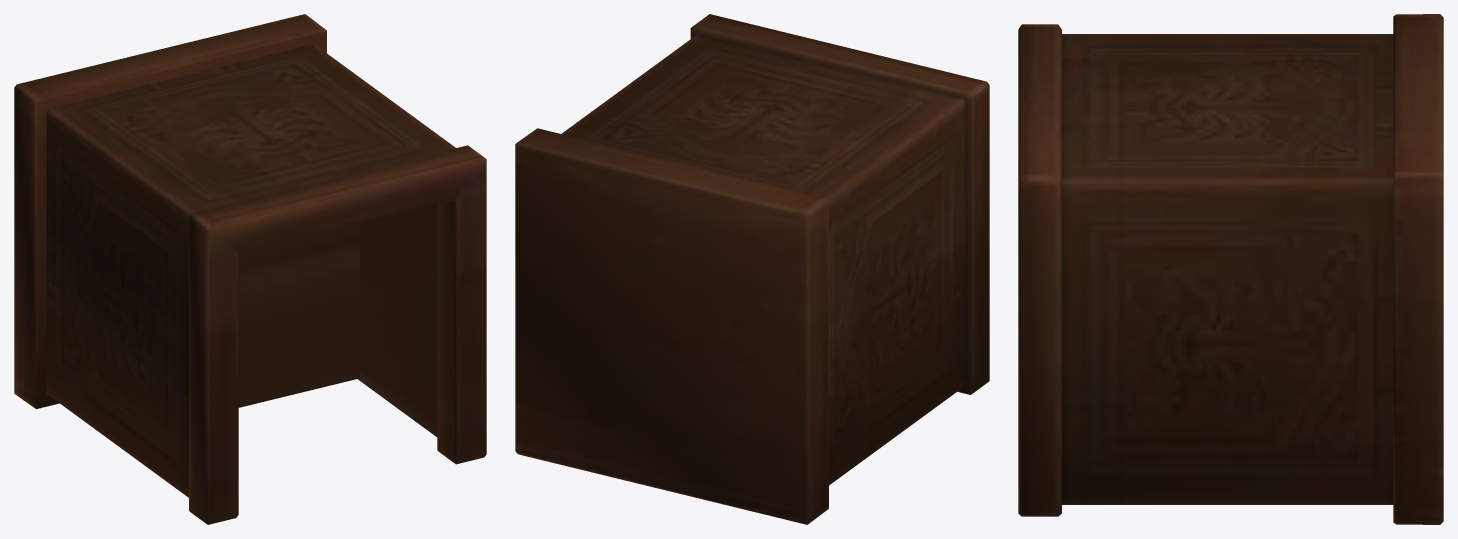
The model's file is counter-register.glb.
3 renders of one model, left to right at view 1: azimuth 30°, elevation 25°; view 2: azimuth 150°, elevation 25°; view 3: azimuth 270°, elevation 25°, orthographic. The views are drawn at different scales.
Parts seen in each view (by area): view 1: FtrCounterRegister_node1; view 2: FtrCounterRegister_node1; view 3: FtrCounterRegister_node1.
Part boxes in pixels (bbox=[...]): FtrCounterRegister_node1: bbox=[14, 14, 486, 524]; FtrCounterRegister_node1: bbox=[515, 14, 989, 524]; FtrCounterRegister_node1: bbox=[1018, 14, 1443, 524].
Bounding box in the file's own units: 7.92 × 8.02 × 8.79.
1 material, 1 textured.
